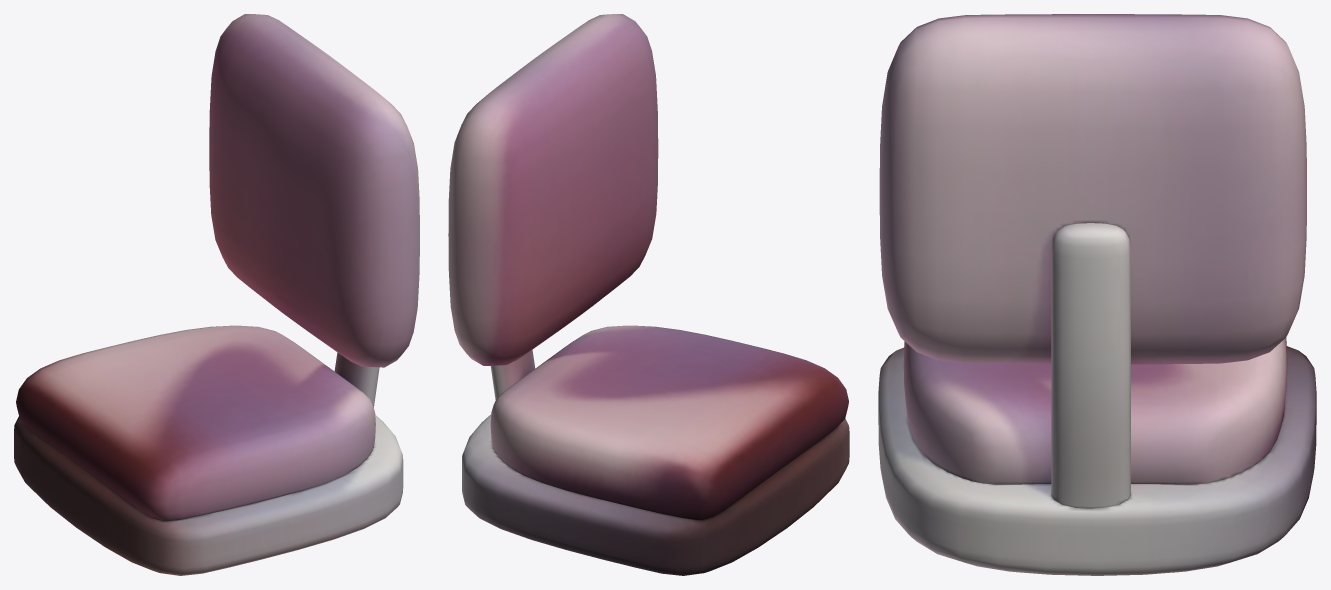
Rendered from chair-seat.glb.
3 views of the same model, side by side, from view 1: azimuth 30°, elevation 25°; view 2: azimuth 150°, elevation 25°; view 3: azimuth 270°, elevation 25° (orthographic). The views are drawn at different scales.
Parts seen in each view (by area): view 1: Chair_Top_Fourth; view 2: Chair_Top_Fourth; view 3: Chair_Top_Fourth.
Part boxes in pixels (x1,y1,x2,y2): Chair_Top_Fourth: (14, 14, 419, 575); Chair_Top_Fourth: (448, 14, 849, 575); Chair_Top_Fourth: (878, 14, 1316, 575).
Bounding box in the file's own units: 1.56 × 2.06 × 1.53.
1 material, 1 textured.
